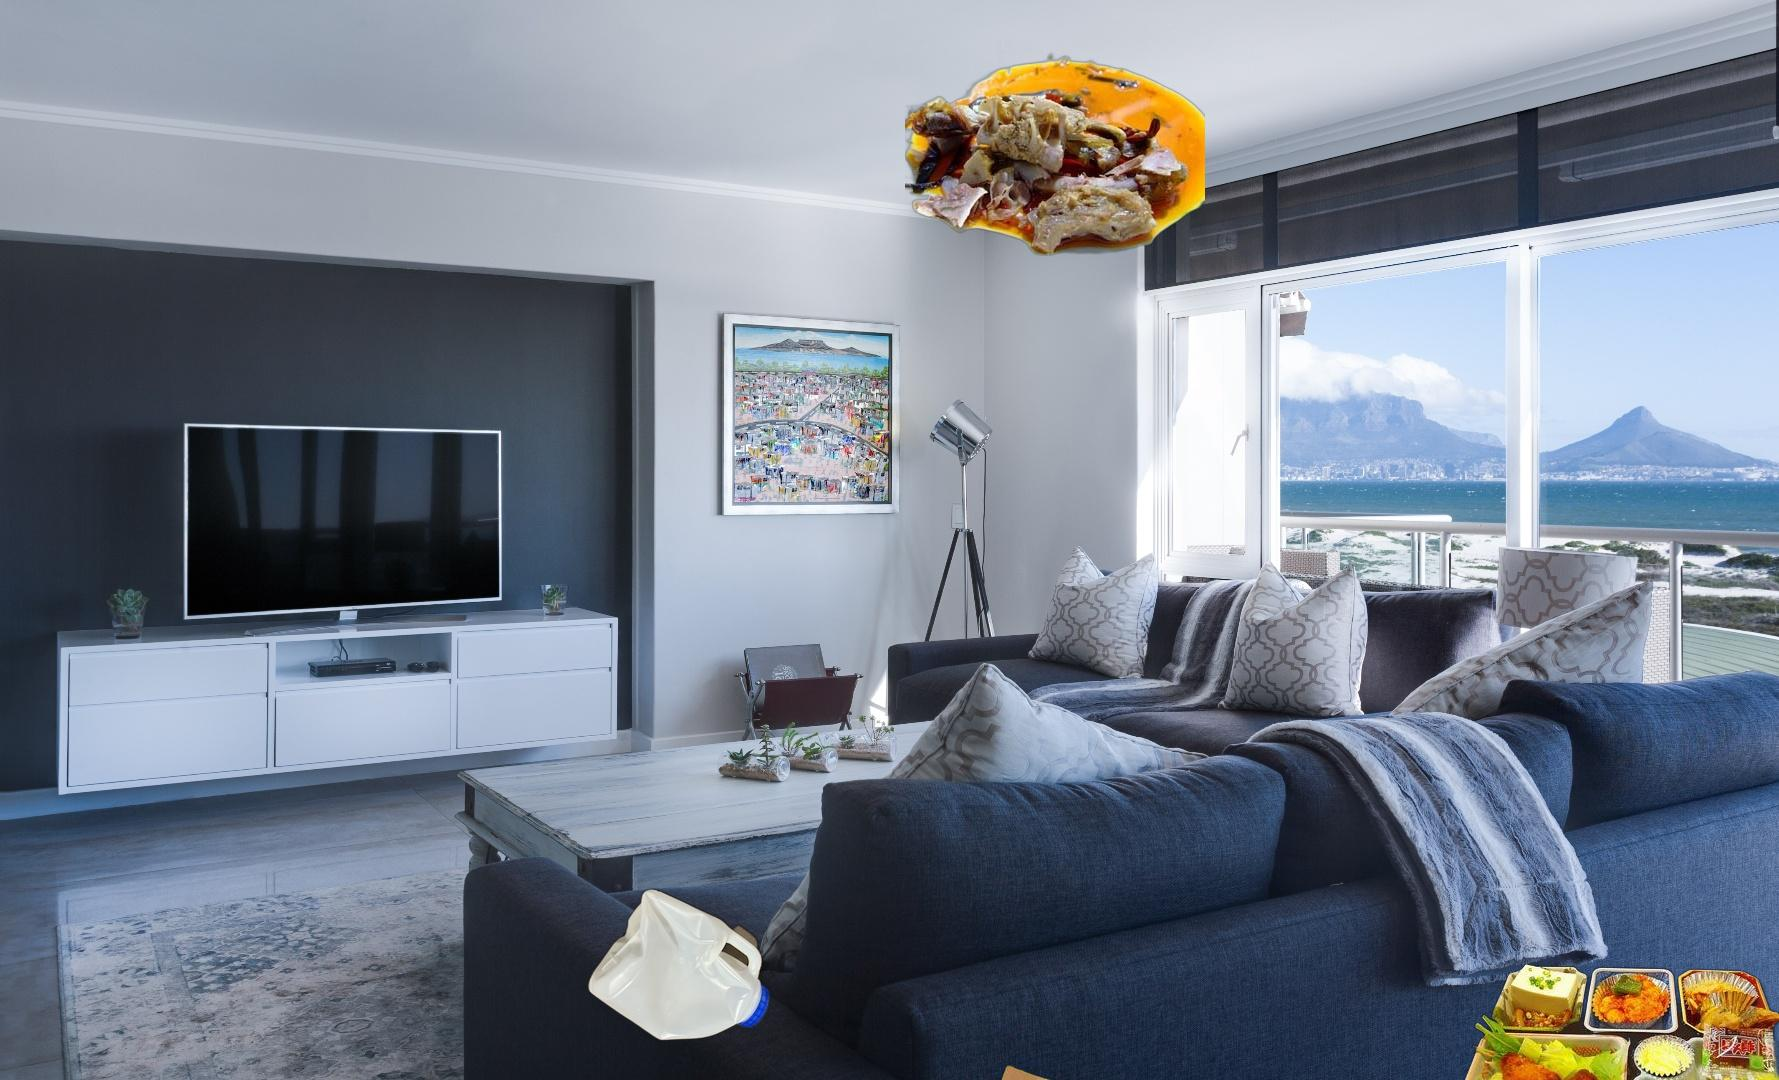biological: (905, 39, 1205, 266), (1445, 962, 1779, 1080)
clothes: (1602, 1058, 1779, 1080)
paper-bag: (981, 1062, 1167, 1080)
plastic-bottles: (583, 886, 780, 1044)
